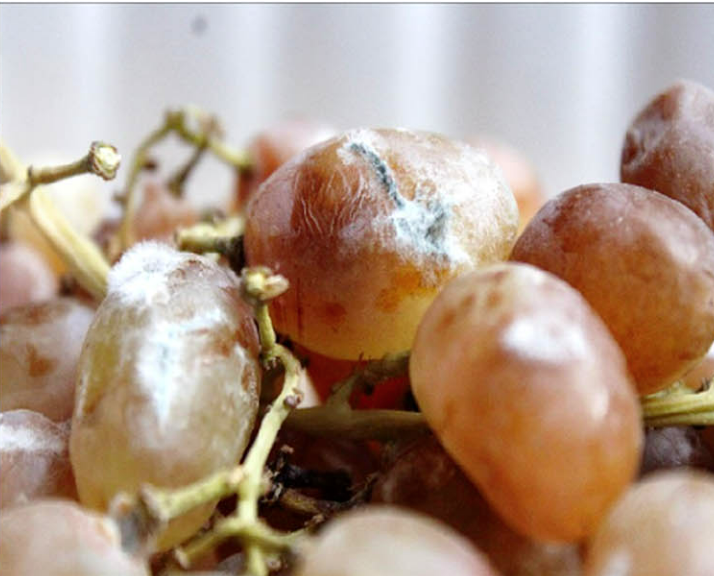Penicillium: (331, 142, 459, 255), (148, 321, 193, 401), (110, 251, 183, 300)
